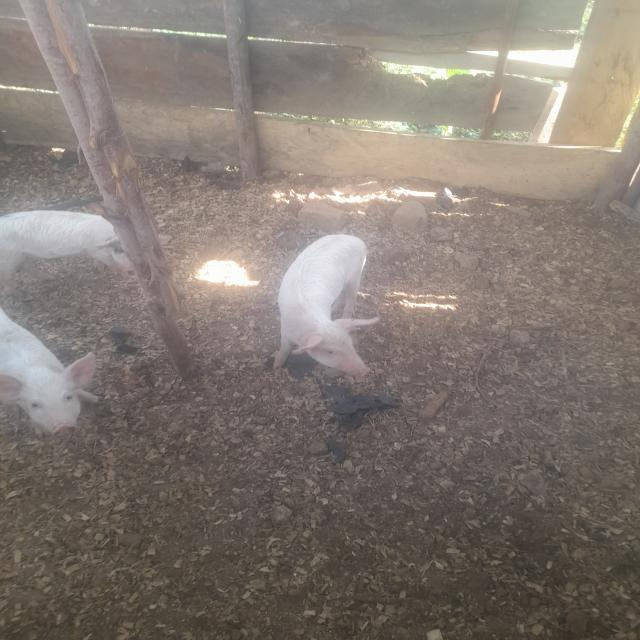pig: (231, 181, 417, 411)
